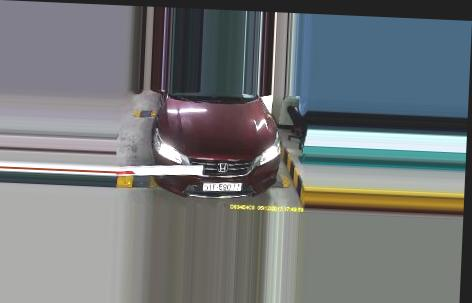License_Plate: (201, 177, 246, 197)
